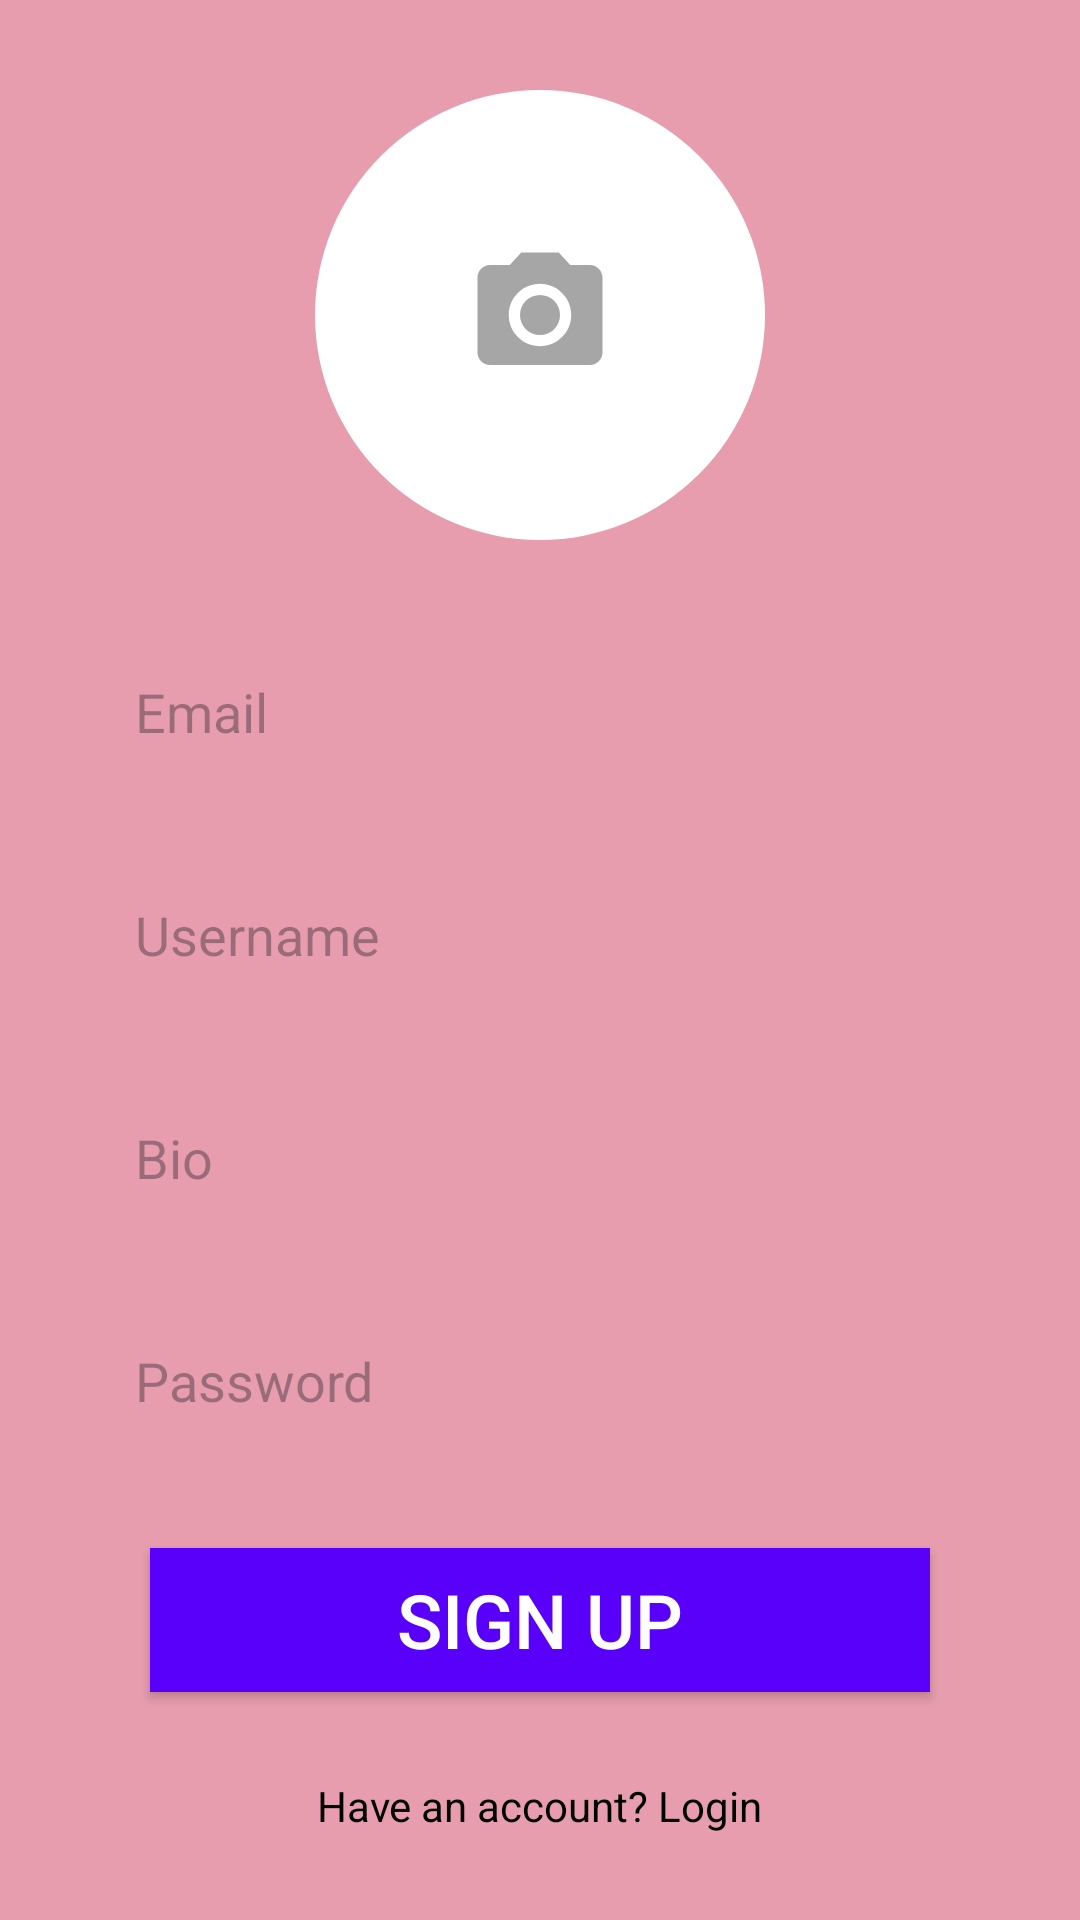

Icons on this 1080px x 1920px Android screen, each with the point to tap as (x=x, y=y):
camera: (x=540, y=308)
